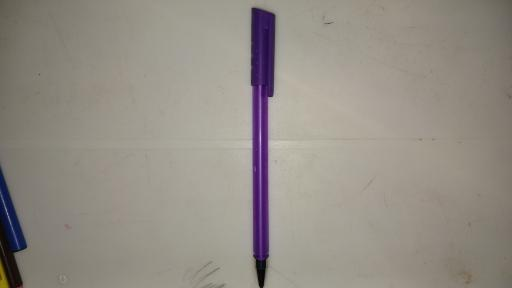pen: (250, 7, 276, 288)
